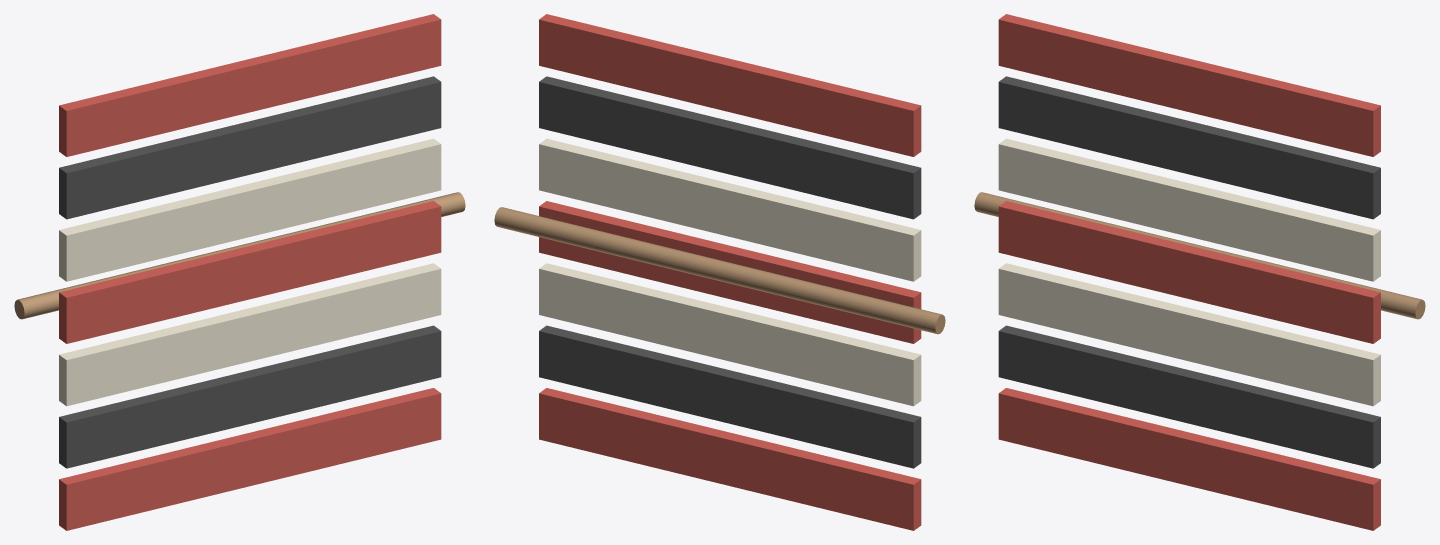
File: sadu.glb
The picture shows the model from 3 angles, left to right: view 1: azimuth 30°, elevation 25°; view 2: azimuth 150°, elevation 25°; view 3: azimuth 330°, elevation 25°; orthographic projection.
Bounding box in the file's own units: 2 × 1.82 × 0.15.
